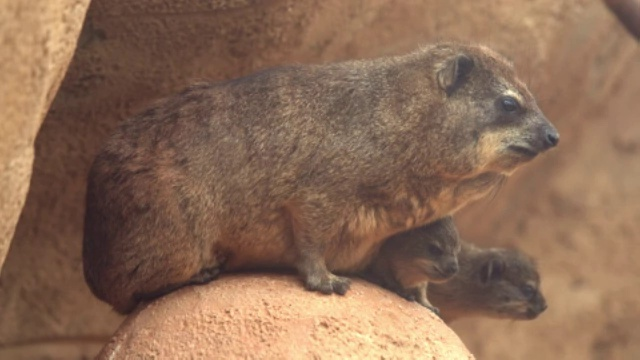Rock Hyrex: (86, 37, 561, 311), (437, 235, 549, 320), (388, 215, 460, 296)
